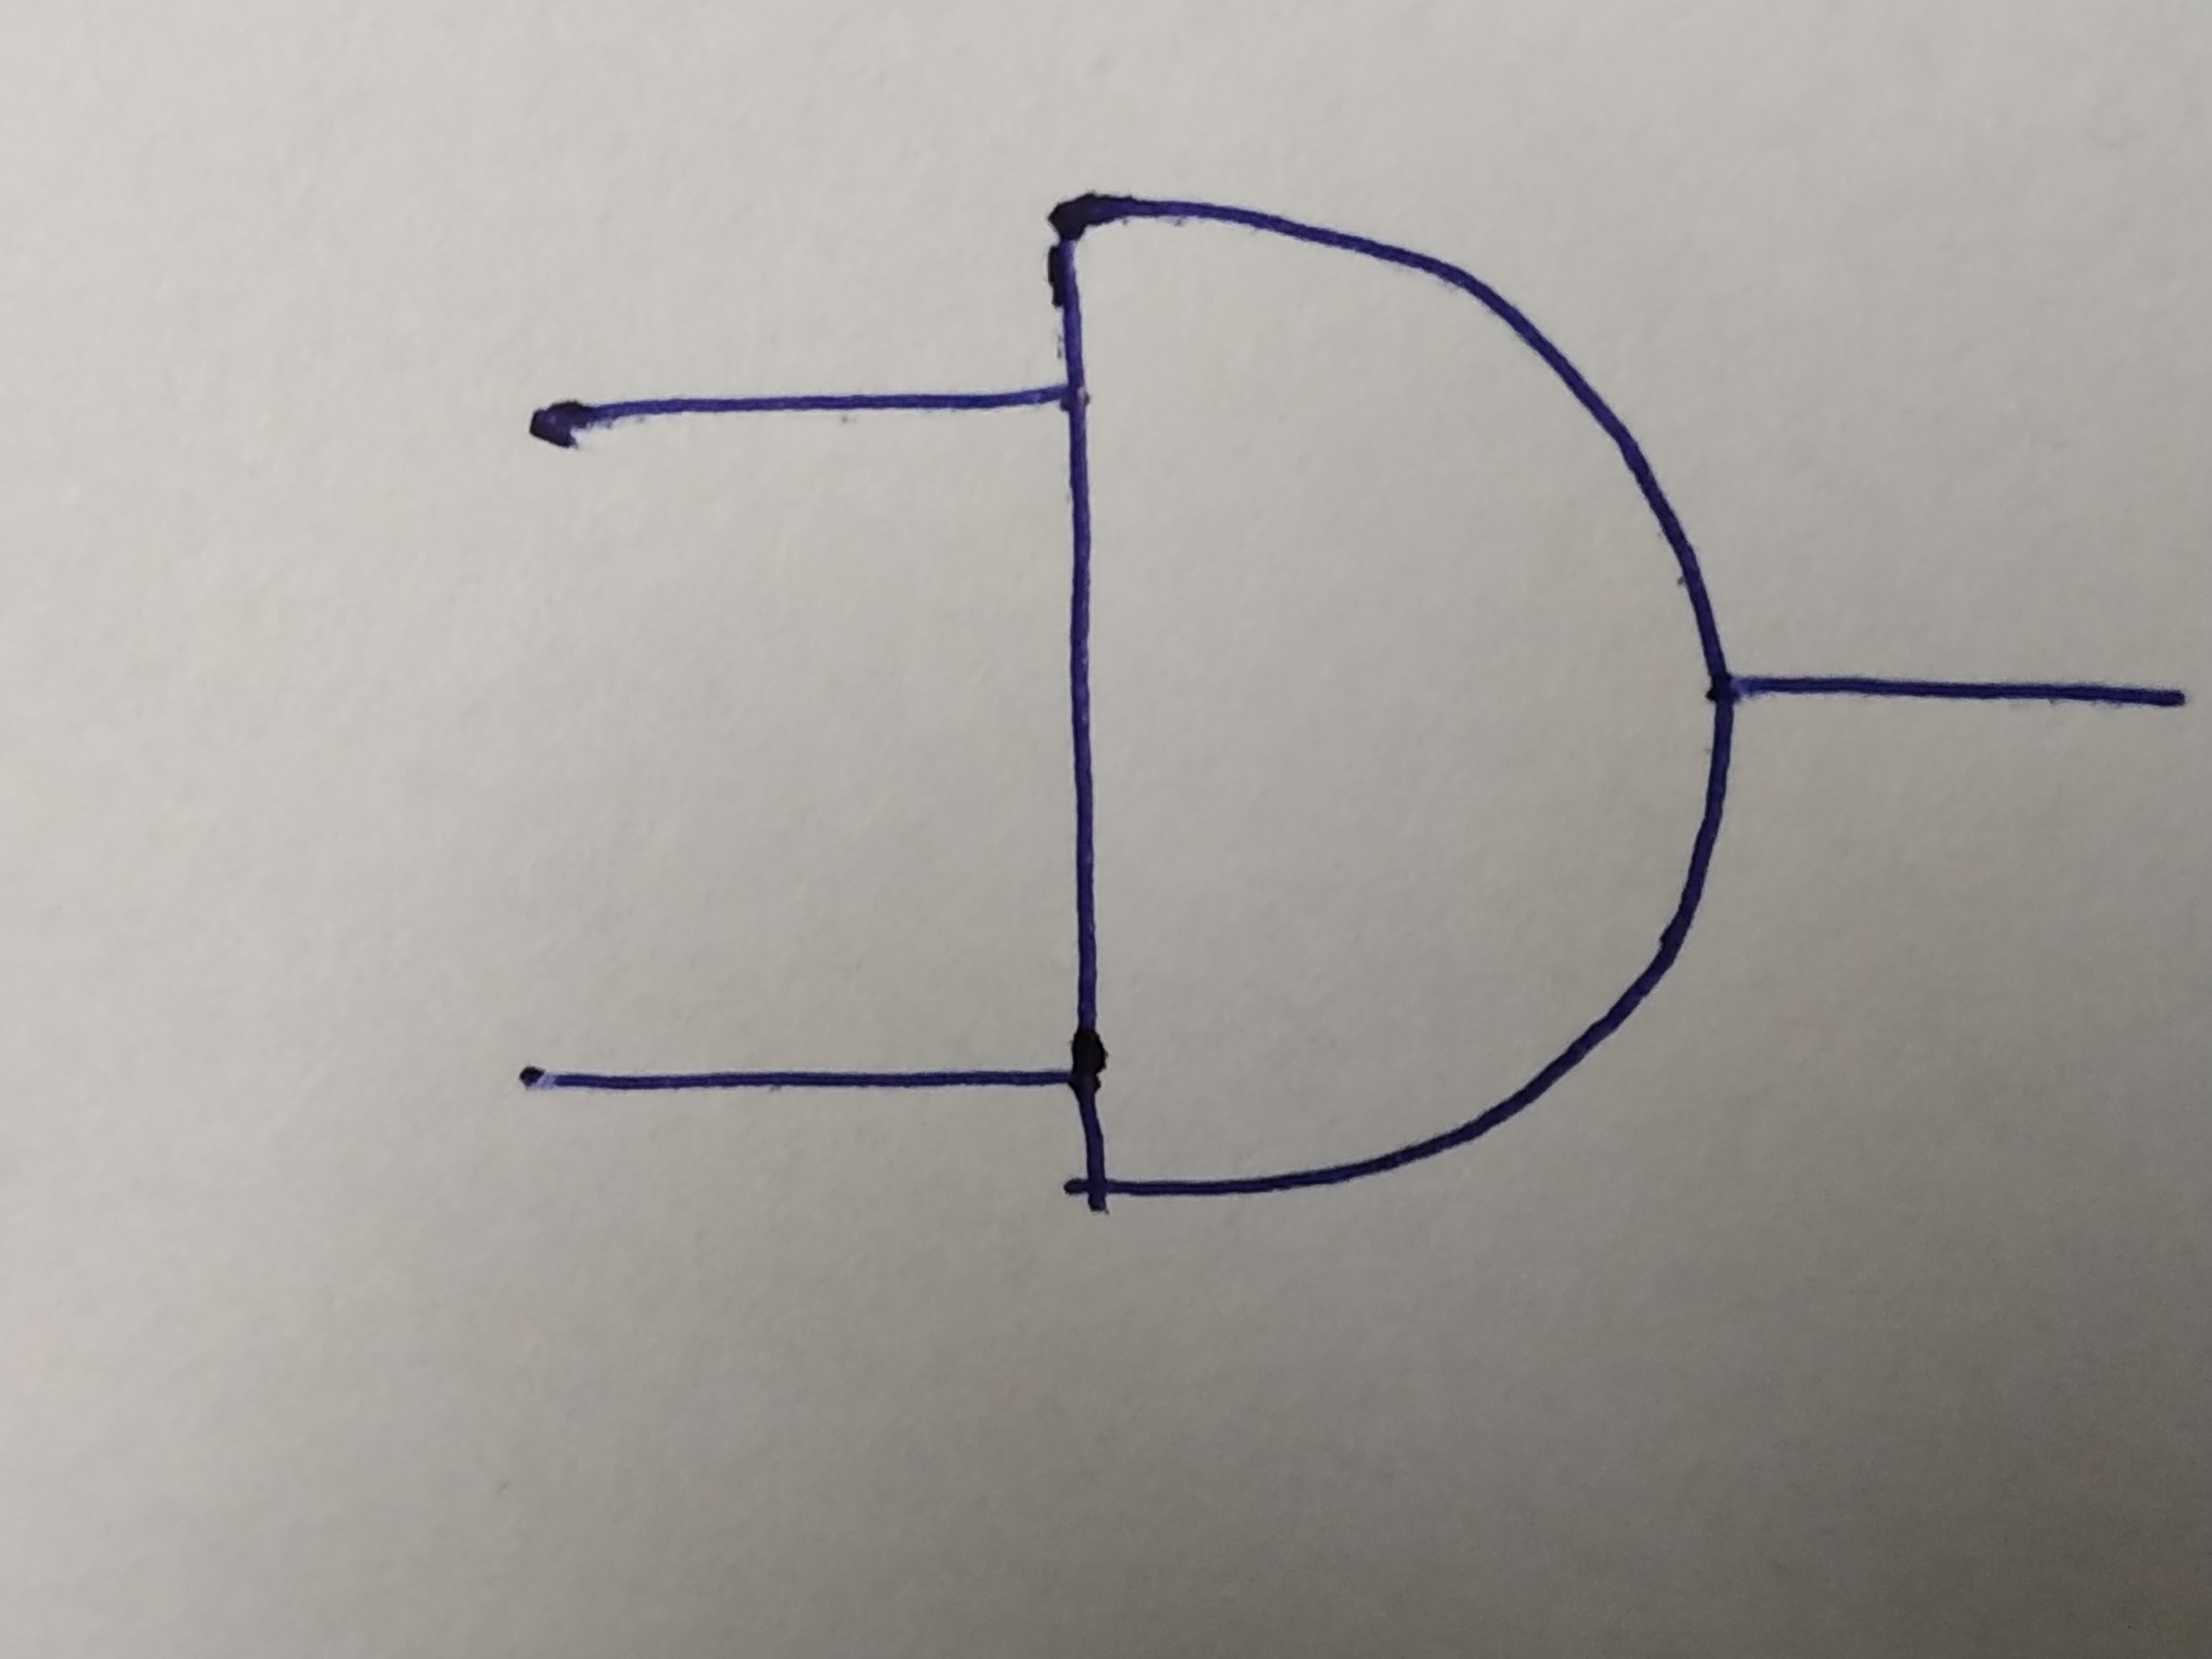and: (1049, 206, 1712, 1195)
